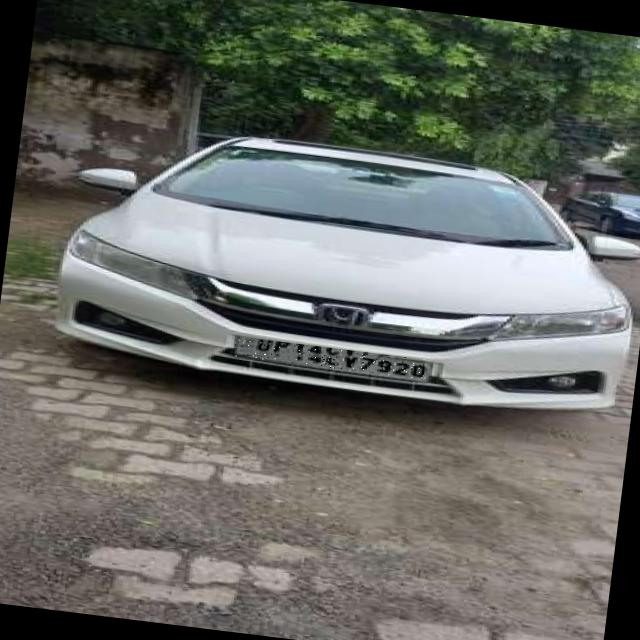Plate: (233, 337, 426, 380)
